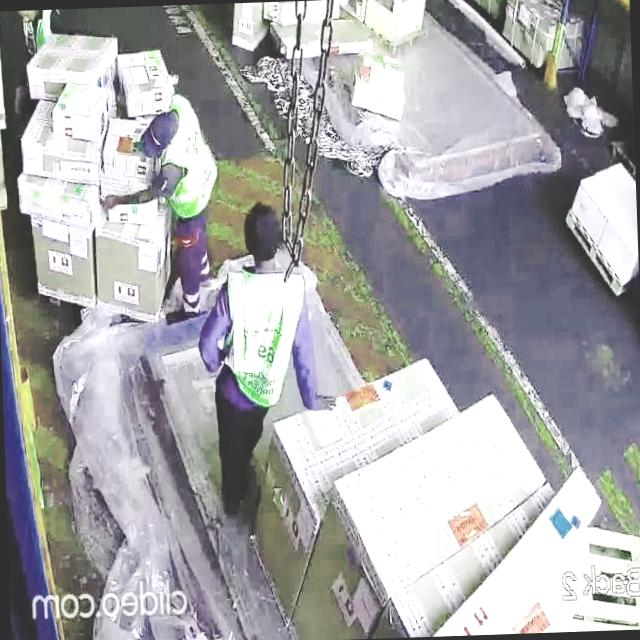Box: (93, 218, 169, 306), (31, 32, 116, 88), (36, 222, 92, 298), (13, 134, 96, 178), (117, 46, 171, 112), (20, 176, 100, 220), (340, 58, 406, 110), (56, 86, 110, 136)
